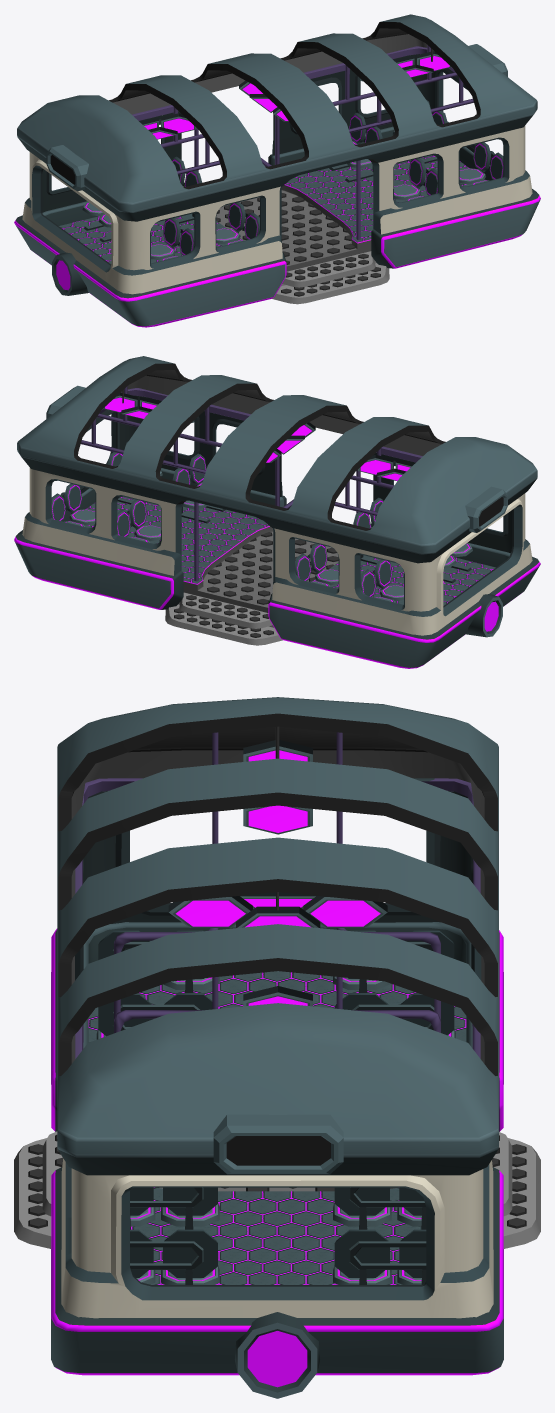
The model's file is scifi_tram.glb.
3 views of the same model, one above another, from view 1: azimuth 30°, elevation 25°; view 2: azimuth 150°, elevation 25°; view 3: azimuth 270°, elevation 25° (orthographic). The views are drawn at different scales.
Visible parts, largest first — view 1: scifi_tram; view 2: scifi_tram; view 3: scifi_tram.
Boxes of the visible parts, box(x1,y1,x2,y2) form: scifi_tram: box(14, 14, 540, 327); scifi_tram: box(14, 356, 540, 668); scifi_tram: box(14, 697, 540, 1398).
Size of what is drawn, in the model's own units: 15.31 by 5.85 by 8.21.
1 material, 1 textured.
